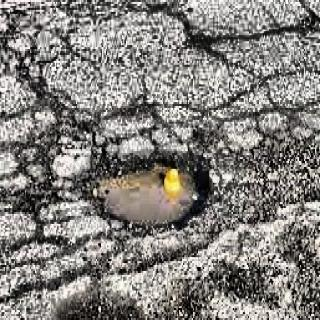pothole: (68, 134, 232, 232)
